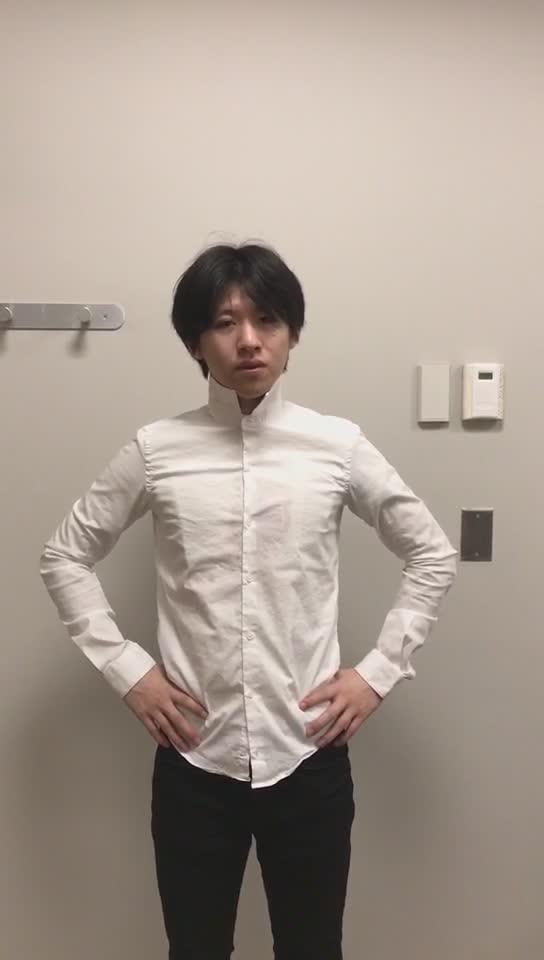shirt: (187, 339, 355, 586)
